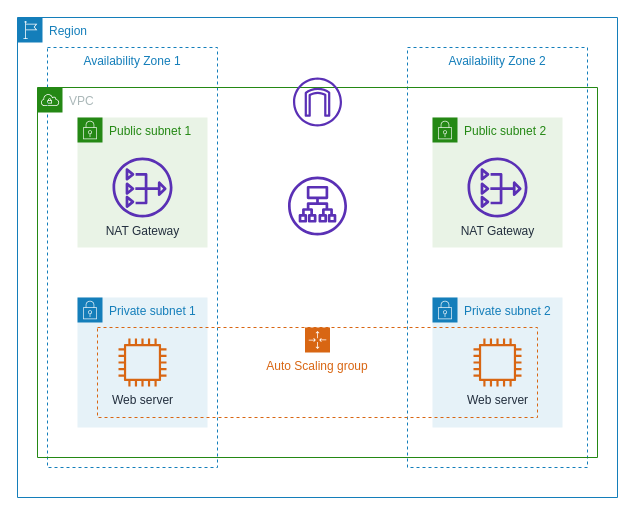
Some shapes in this 635 by 515 pixel diagram are drawn without their labels. Here are the shapes that lost their labels. From the top down, the centre of each, then its label:
the point at 317,101: Internet Gateway
the point at 317,205: Application Load Balancer
